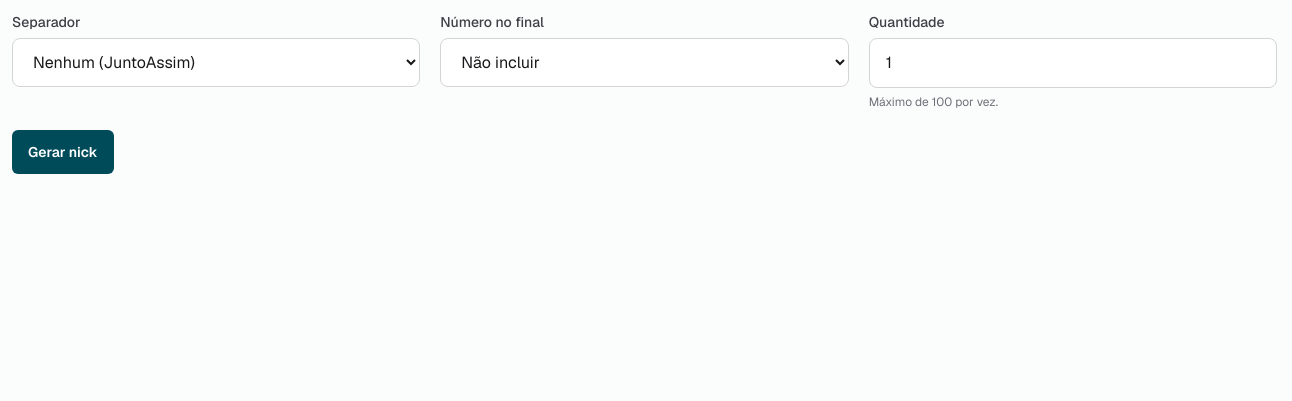
NicknameGeneratorTool › gera um único nick ao clicar em 'Gerar nick'
Click the button "Gerar nick" at (63, 152), box [12, 130, 114, 174]
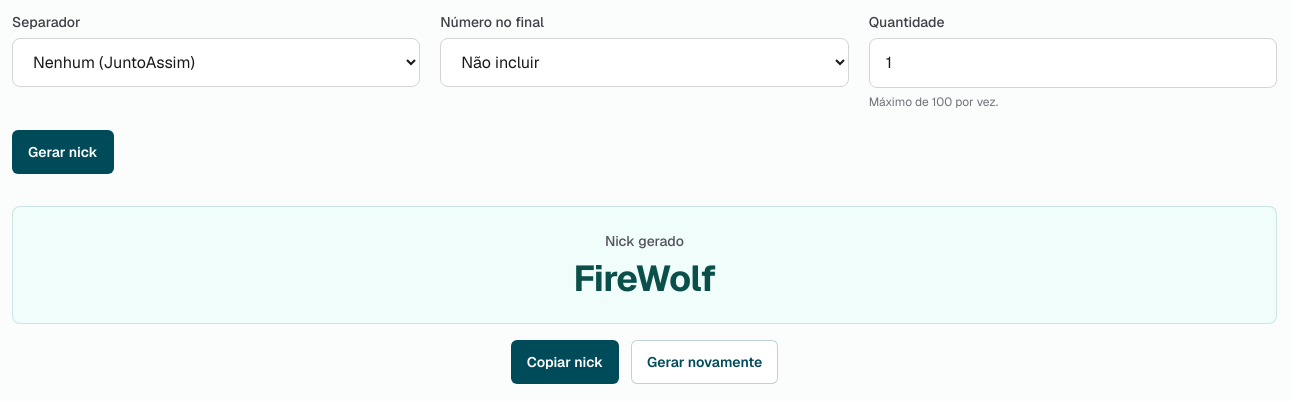
Expected: the text "Nick gerado" is shown, [605, 232, 684, 250]
